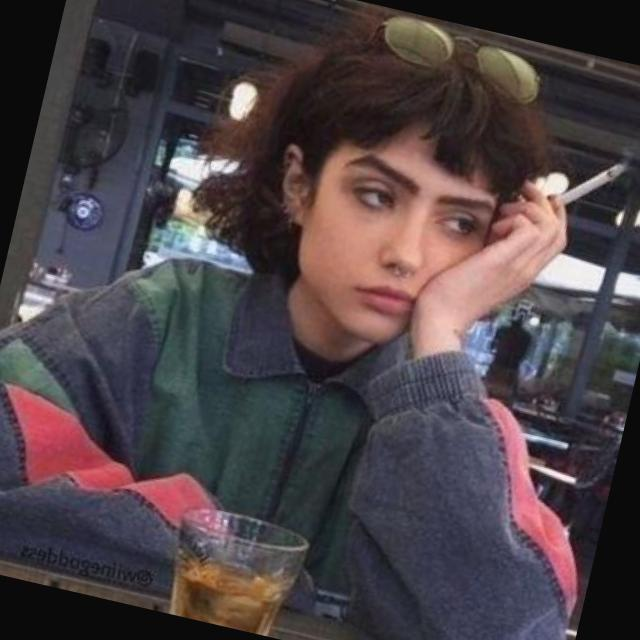smoke: (534, 127, 640, 239)
